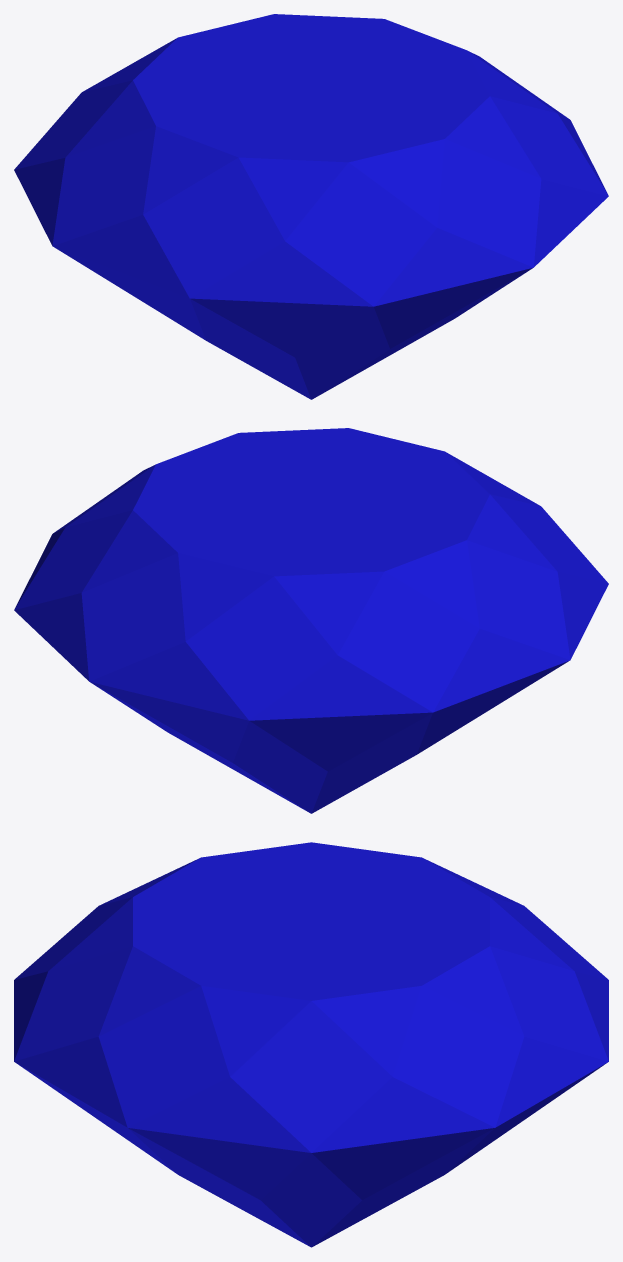
Rendered from GemaAzul.fbx.
The picture shows the model from 3 angles, top to bottom: view 1: azimuth 30°, elevation 25°; view 2: azimuth 150°, elevation 25°; view 3: azimuth 270°, elevation 25°; orthographic projection. The views are drawn at different scales.
Parts seen in each view (by area): view 1: Gem.003; view 2: Gem.003; view 3: Gem.003.
Boxes of the visible parts, box(x1,y1,x2,y2) form: Gem.003: box(14, 14, 608, 399); Gem.003: box(14, 428, 608, 813); Gem.003: box(14, 842, 608, 1247).
Bounding box in the file's own units: 200 × 115 × 190.
